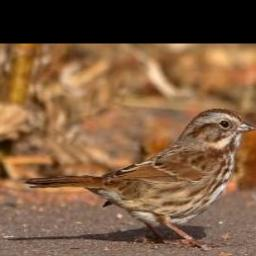Sparrow: (21, 103, 255, 251)
